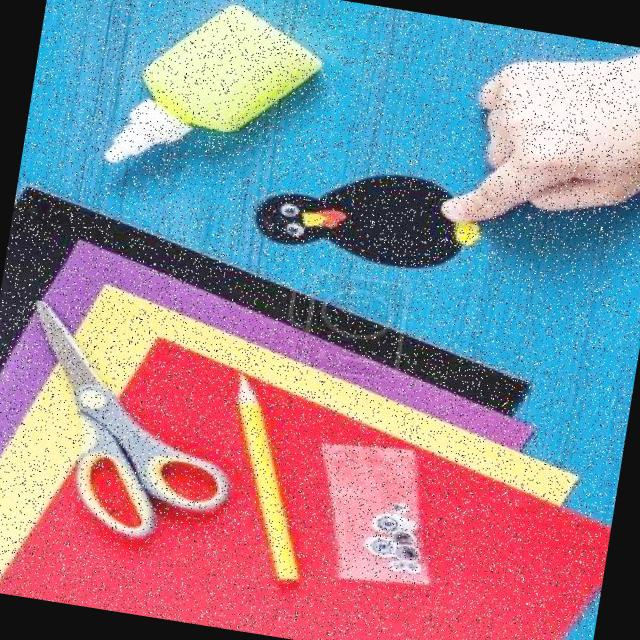scissors: (0, 296, 260, 554)
